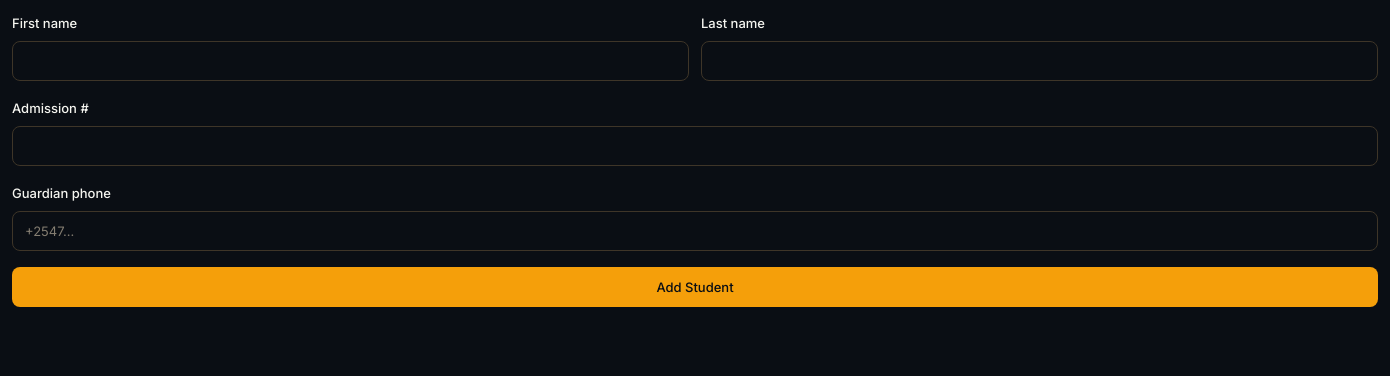
Scenario: StudentQuickAddForm › blocks submission when required fields are empty
The width and height of the screenshot is (1390, 376).
What coordinates should you click on to do the following:
click the button "Add Student"
I would click on:
 (695, 287)
Its box is x1=12 y1=267 x2=1378 y2=307.
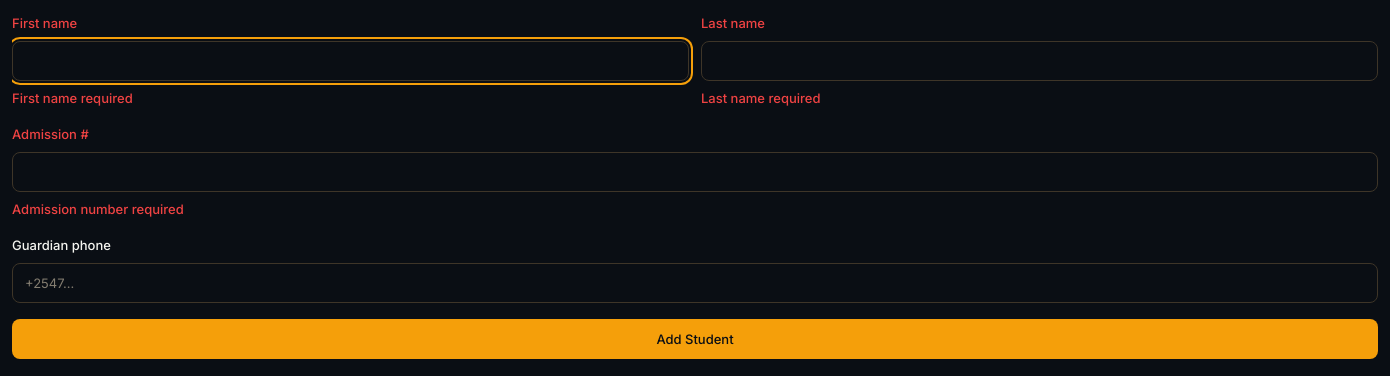
Now the text "First name required" is shown, box x1=12 y1=90 x2=133 y2=106
